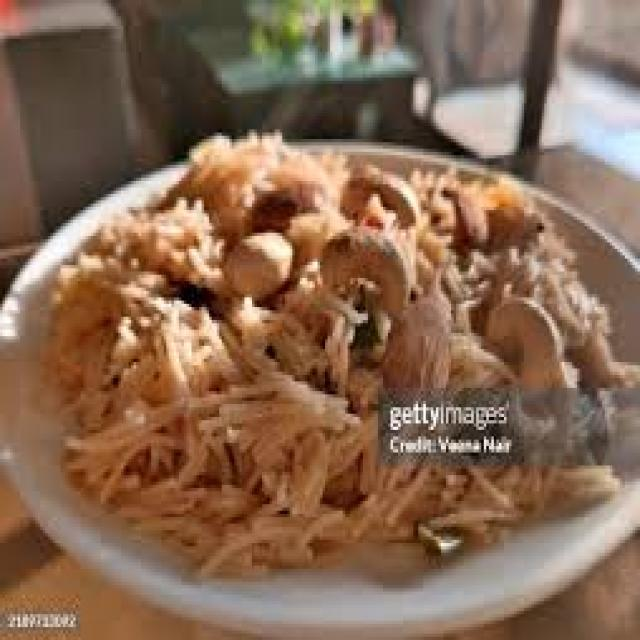BAJI: (30, 129, 632, 575)
